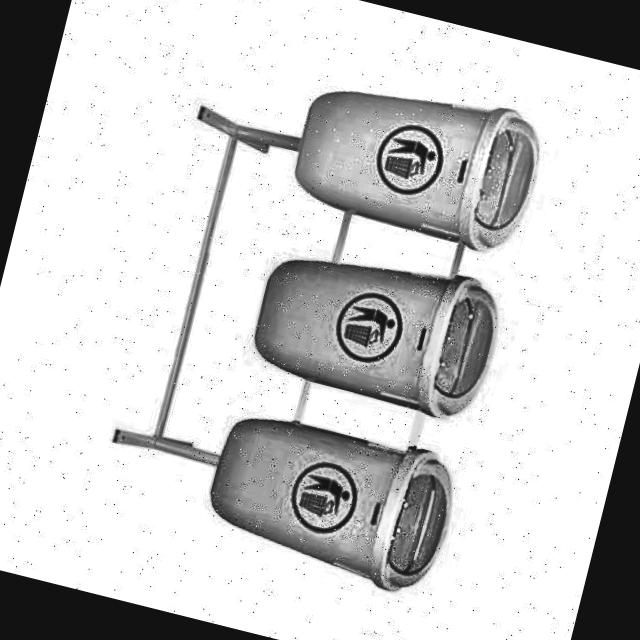Dustbin: (166, 367, 508, 627), (230, 207, 532, 439), (272, 33, 568, 267)
